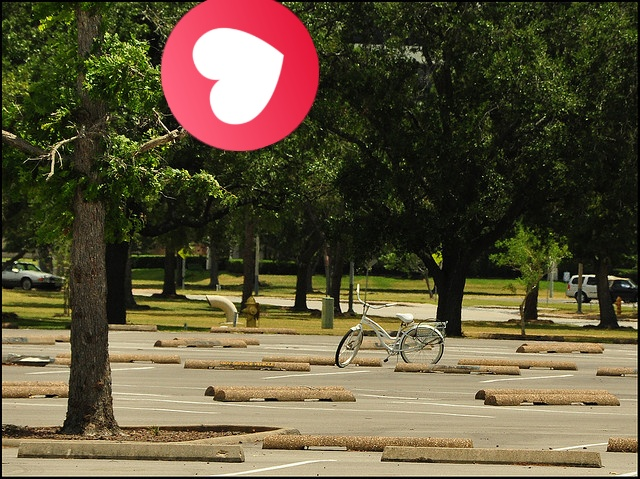love: (161, 0, 319, 151)
